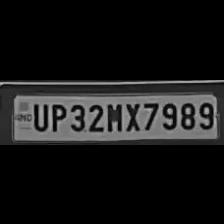2: (86, 100, 104, 132)
3: (66, 100, 86, 132)
7: (139, 99, 157, 131)
8: (178, 98, 196, 130)
9: (158, 98, 178, 130), (196, 98, 214, 130)
M: (104, 98, 122, 132)
P: (47, 100, 65, 132)
U: (28, 99, 48, 130)
X: (123, 99, 141, 131)
